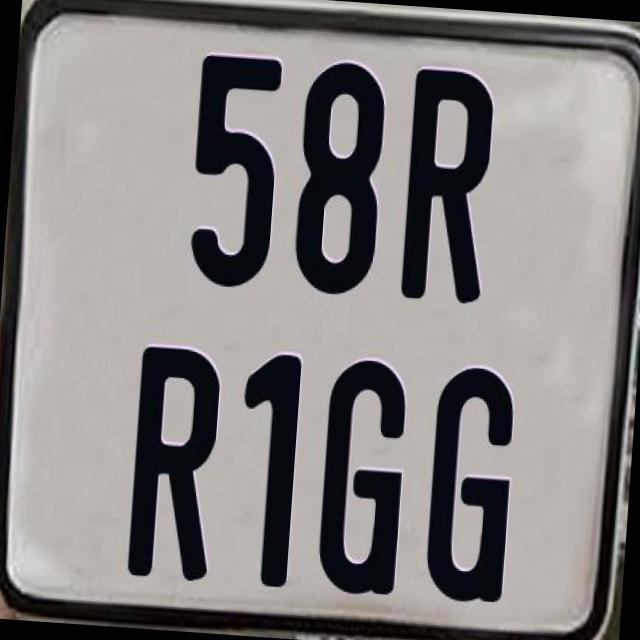1: (228, 346, 300, 588)
5: (184, 51, 280, 290)
8: (288, 56, 391, 296)
G: (422, 363, 524, 602), (314, 355, 410, 598)
R: (123, 346, 224, 591), (400, 64, 498, 308)
